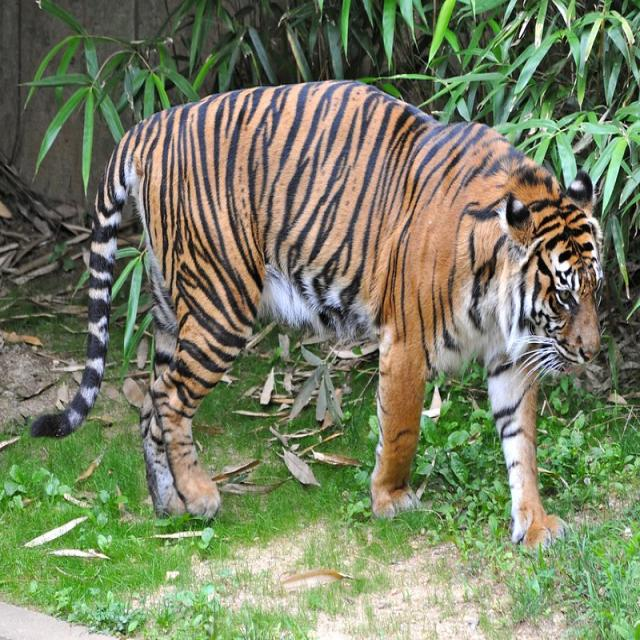Tiger: (28, 77, 602, 557)
